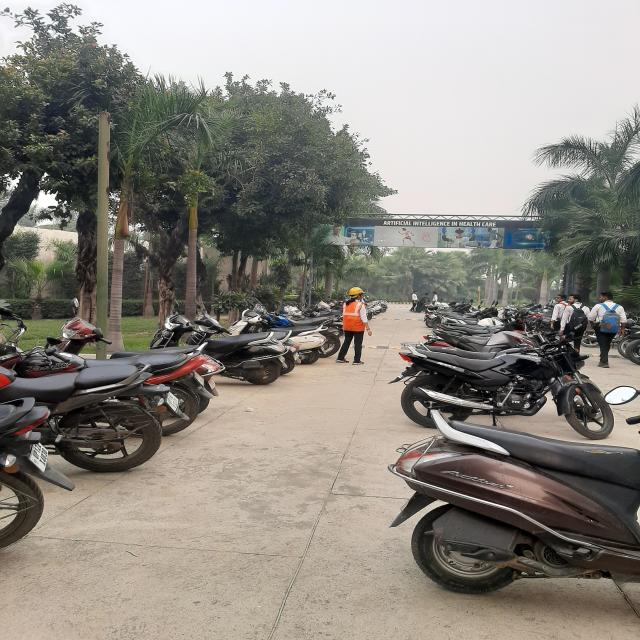safe: (336, 284, 372, 368)
unsafe: (596, 293, 621, 368), (566, 296, 588, 352), (550, 293, 568, 333), (431, 290, 438, 307)
